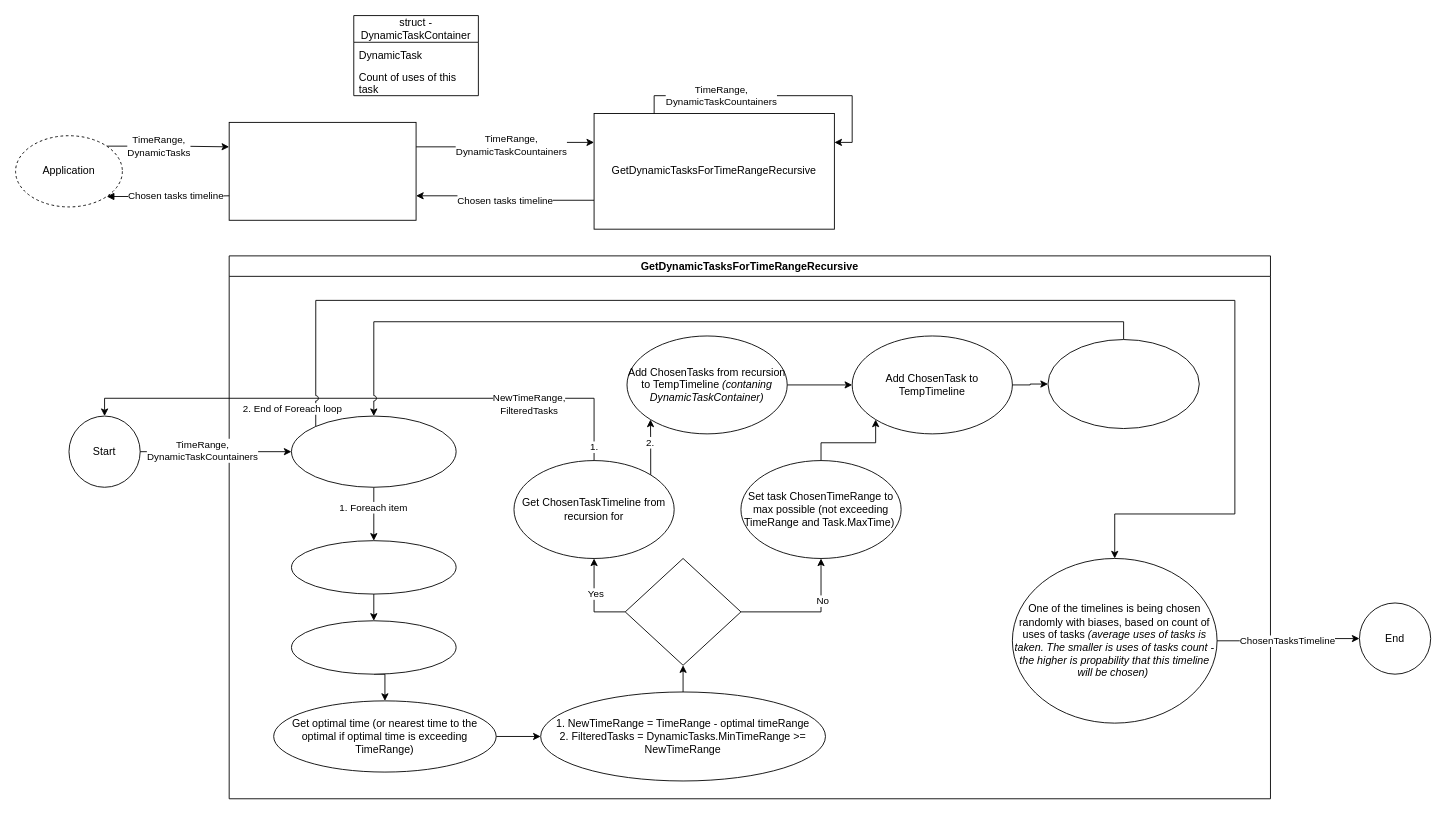
Image size: 1446x814. Some labels were removed from this diagram. Each missing label, with the centre of its shape:
Add +1 to use count of the dynamicTask: (373,647)
Add TempTimeline to PossibleTaskTimelines: (1123,384)
Are there any FilteredTasks?: (682,611)
Copy DynamicTaskContainers: (373,567)
Foreach dynamicTaskContainer: (373,451)
GetDynamicTasksForTimeRange: (322,170)
